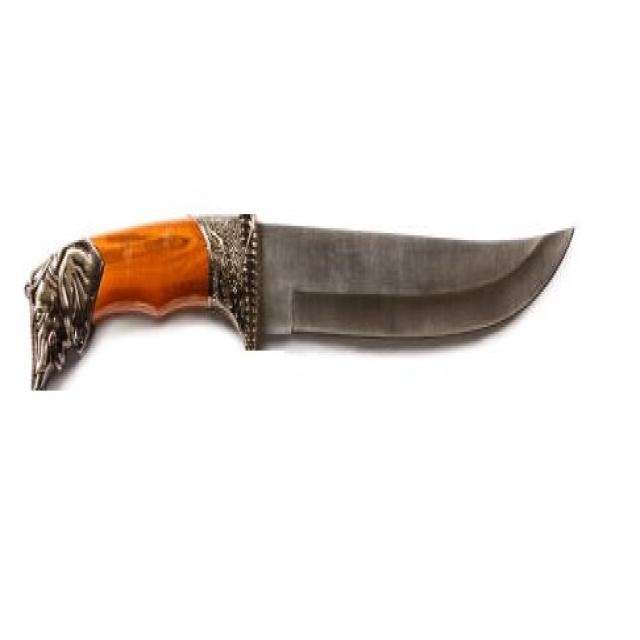knife: (20, 194, 582, 407)
